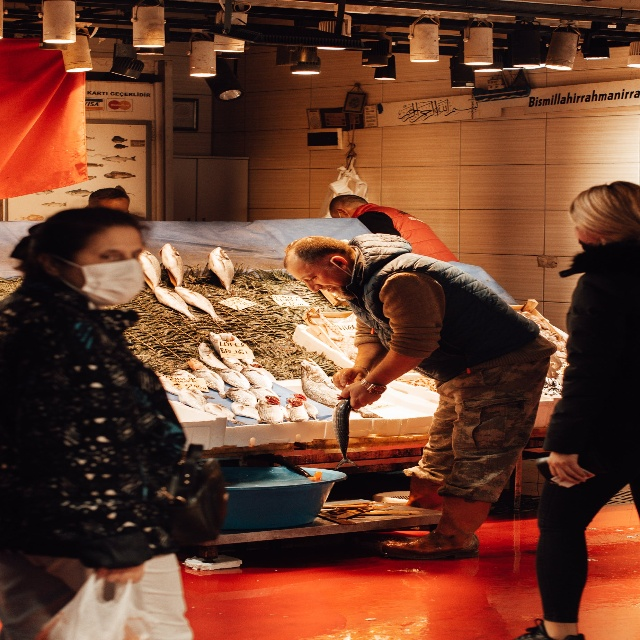Mascara: (57, 258, 146, 306)
Sin_guantes: (547, 450, 588, 485), (339, 381, 382, 410), (331, 367, 367, 391)
